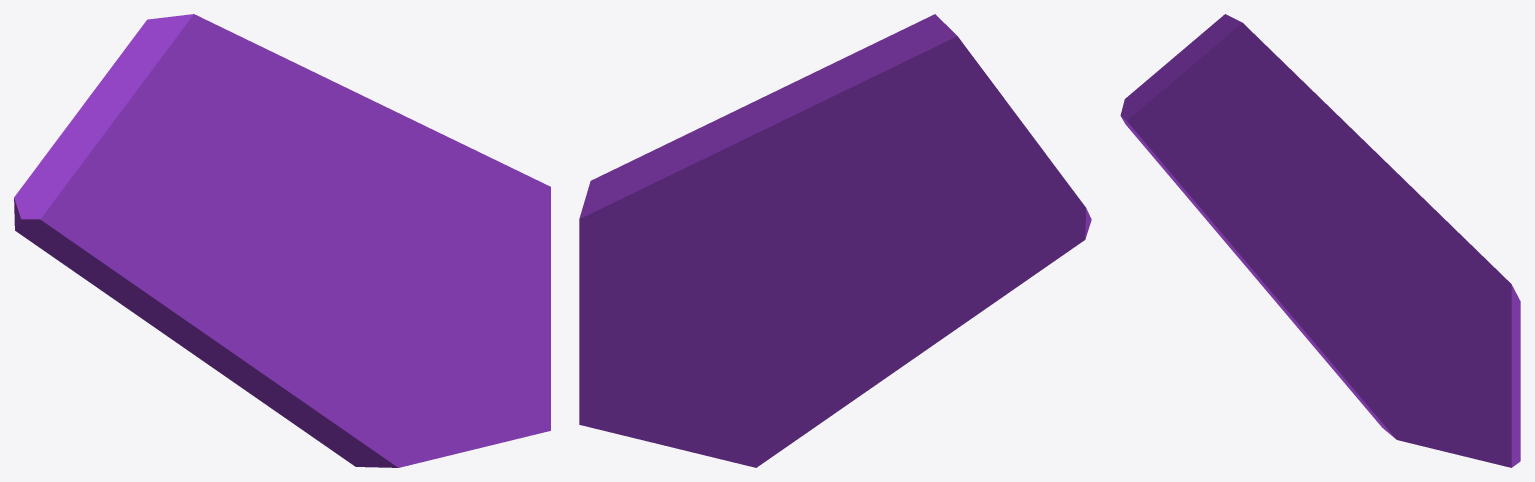
The model's file is Window_40_5_chunks.fbx.
3 renders of one model, left to right at view 1: azimuth 30°, elevation 25°; view 2: azimuth 150°, elevation 25°; view 3: azimuth 330°, elevation 25°, orthographic. The views are drawn at different scales.
Parts seen in each view (by area): view 1: Window_40_5_2, Window_40_5_3, Window_40_5_1, Window_40_5_0; view 2: Window_40_5_2, Window_40_5_3, Window_40_5_1, Window_40_5_0; view 3: Window_40_5_2, Window_40_5_3, Window_40_5_1, Window_40_5_0.
Part boxes in pixels (x1,y1,x2,y2): Window_40_5_2: [292, 97, 550, 459]; Window_40_5_3: [14, 14, 364, 288]; Window_40_5_1: [121, 278, 431, 467]; Window_40_5_0: [99, 241, 293, 323]; Window_40_5_2: [579, 94, 829, 450]; Window_40_5_3: [764, 14, 1091, 296]; Window_40_5_1: [685, 260, 983, 467]; Window_40_5_0: [935, 289, 1003, 310]; Window_40_5_2: [1317, 148, 1520, 467]; Window_40_5_3: [1120, 14, 1371, 229]; Window_40_5_1: [1206, 219, 1421, 445]; Window_40_5_0: [1173, 175, 1317, 258].
Bounding box in the file's own units: 698 × 640 × 27.2.
